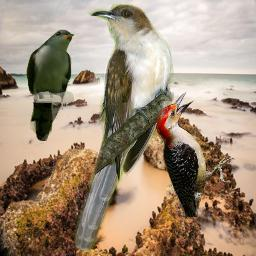Cuckoo: (74, 4, 174, 251), (26, 29, 74, 141)
Woodpecker: (155, 92, 237, 217)
